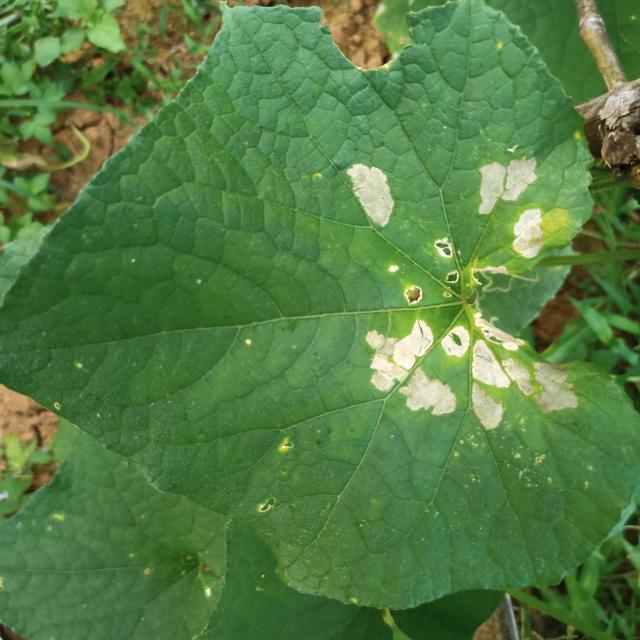disease_cucumber: (364, 311, 582, 432), (473, 152, 540, 220), (345, 160, 395, 232), (509, 206, 545, 262), (434, 236, 466, 288), (401, 282, 424, 306)
